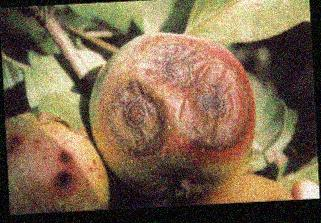rotten apple: (89, 32, 255, 199), (7, 108, 108, 212)
